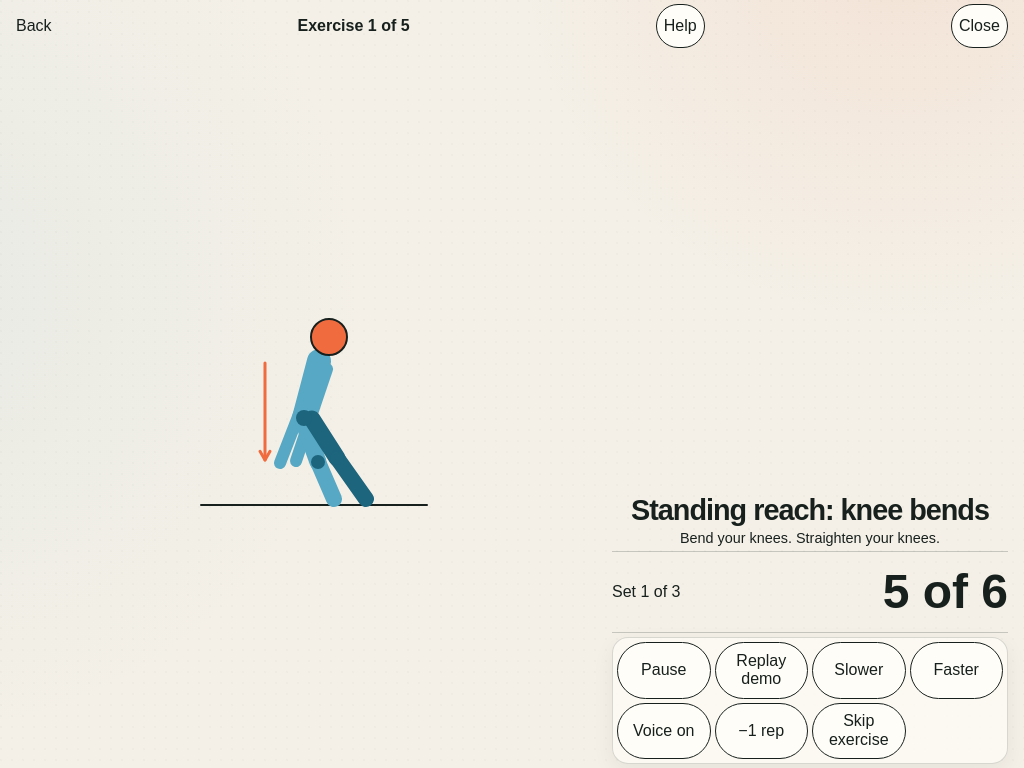
Scenario: SessionPlayer › cancels a pending active-rep Escape resume when visibility hides before capabilities settle
The image size is (1024, 768).
Step 1. Click the button "Skip exercise" → (859, 731), box [812,703,906,759]
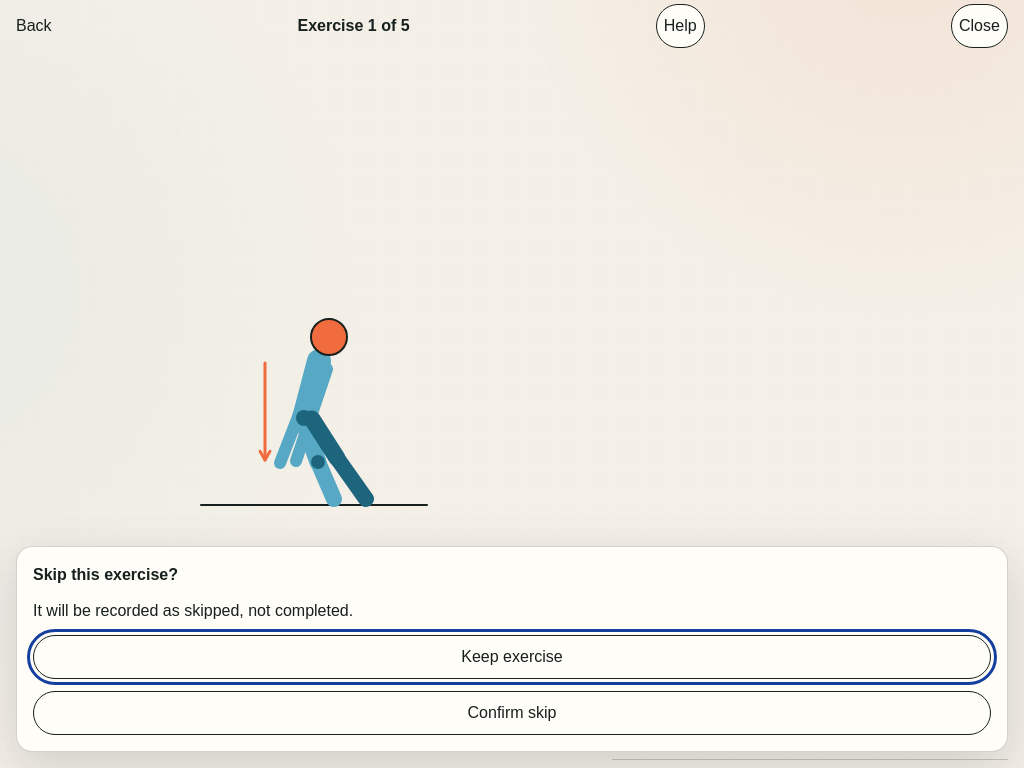
Step 2. Press Escape in the dialog named "Confirm skip", box [16,546,1008,752]
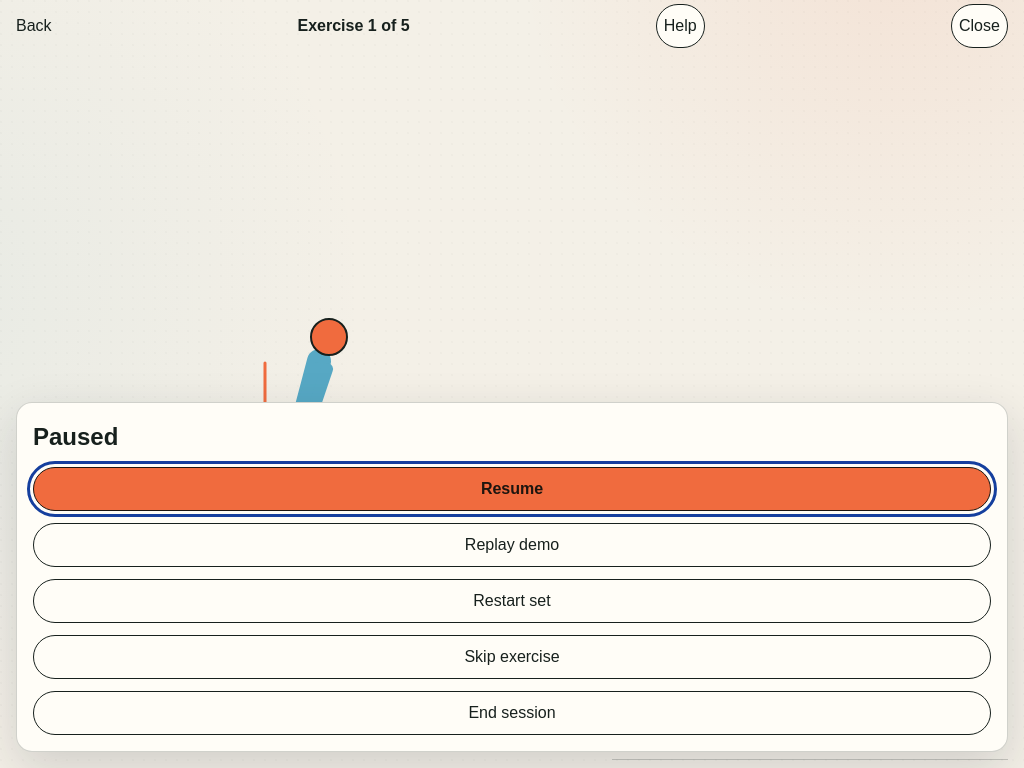
Check: the text "5 of 6" is shown, box [883,683,1008,755]
Check: the button "Confirm skip" is gone
Check: the dialog named "Session paused" is shown, box [16,402,1008,752]
